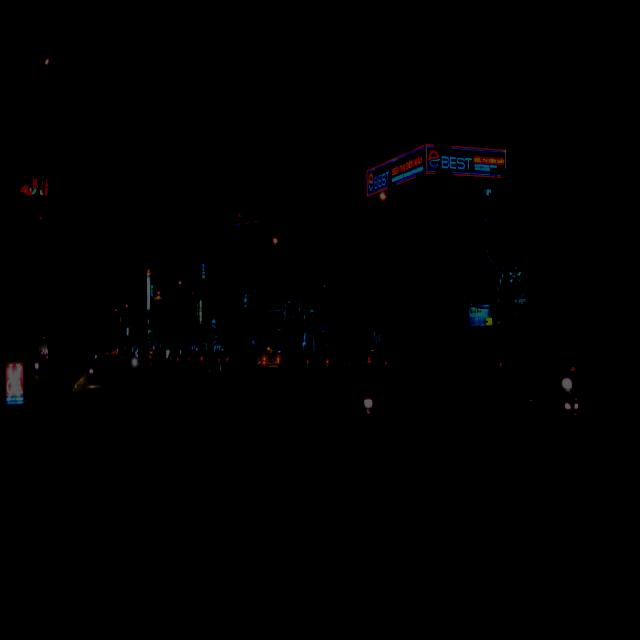Motorbike: (520, 369, 589, 464), (338, 382, 388, 473)
